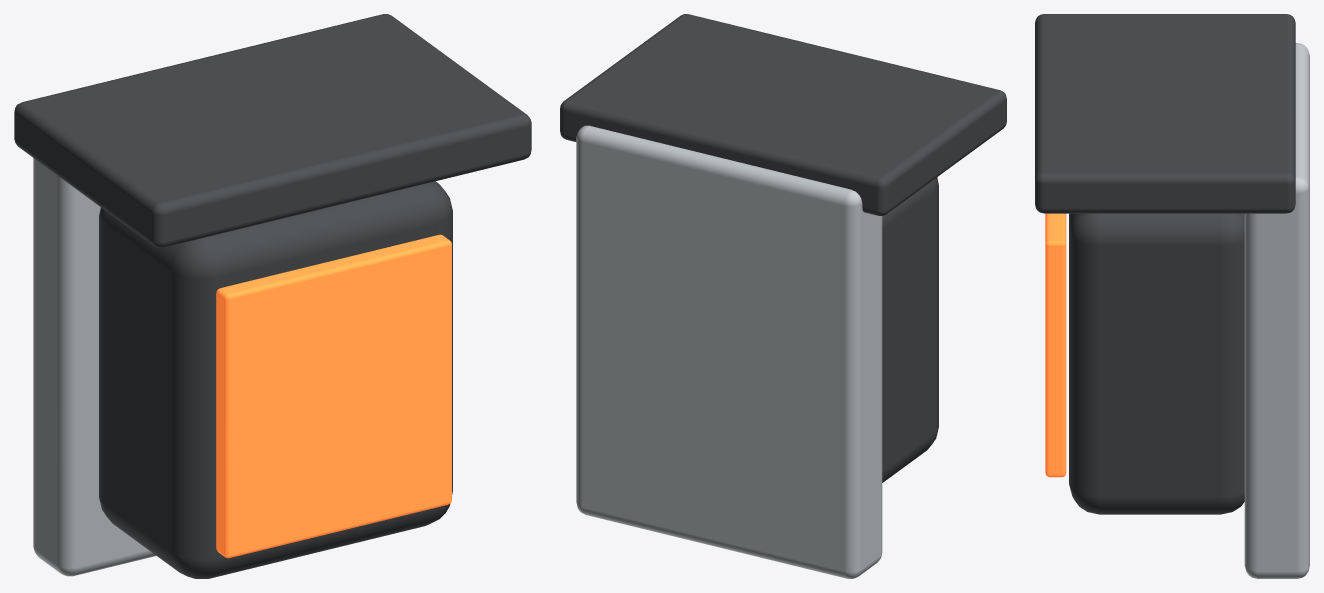
Rendered from camera-repair-and-darkroom-laboratory-safelight-wall-f-74ce4792__31806.glb.
The picture shows the model from 3 angles, left to right: view 1: azimuth 30°, elevation 25°; view 2: azimuth 150°, elevation 25°; view 3: azimuth 270°, elevation 25°; orthographic projection. The views are drawn at different scales.
Parts seen in each view (by area): view 1: safelight-wall-fixture; view 2: safelight-wall-fixture; view 3: safelight-wall-fixture.
Part boxes in pixels (<box>): safelight-wall-fixture: <box>14,14,531,578</box>; safelight-wall-fixture: <box>560,14,1006,578</box>; safelight-wall-fixture: <box>1035,14,1309,578</box>.
Size of the model in its own units: 0.15 by 0.177 by 0.1055.
